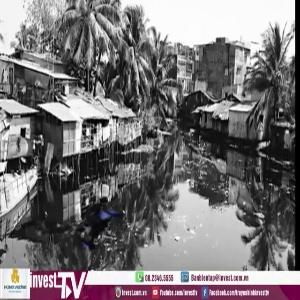drone: (62, 183, 157, 278)
